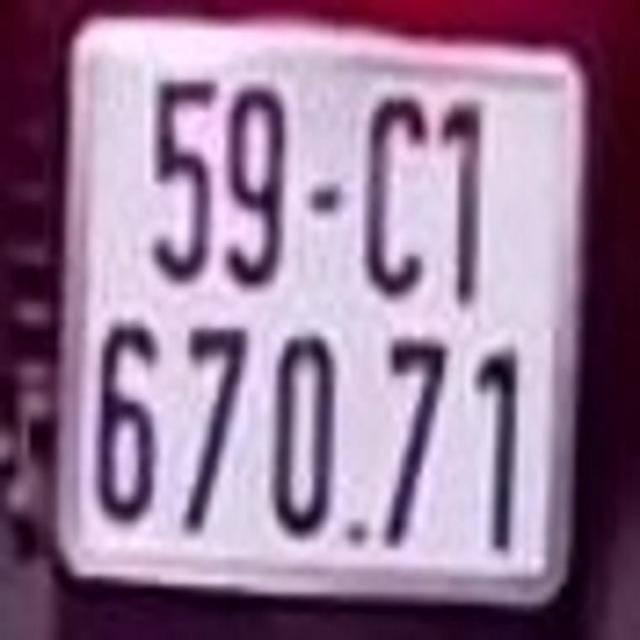0: (270, 328, 334, 536)
1: (437, 94, 490, 308), (470, 339, 517, 551)
5: (150, 67, 217, 287)
6: (96, 320, 158, 524)
7: (378, 332, 450, 548), (177, 319, 247, 535)
9: (222, 76, 286, 286)
C: (362, 89, 426, 296)
